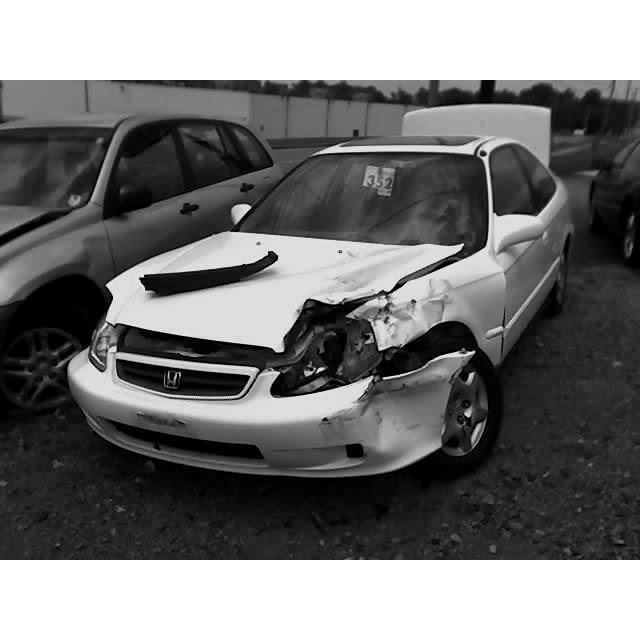bonnet-dent: (128, 228, 389, 333)
fender-dent: (373, 264, 500, 354)
front-bumper-dent: (295, 353, 461, 483)
